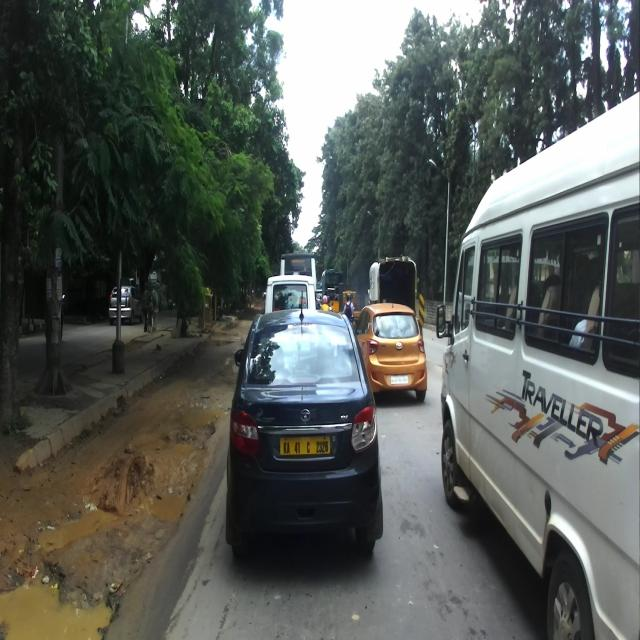Car_Hyundai: (353, 292, 427, 403)
Car_TATA: (226, 287, 383, 561), (108, 285, 145, 328)
mini-bus: (436, 90, 640, 640)
